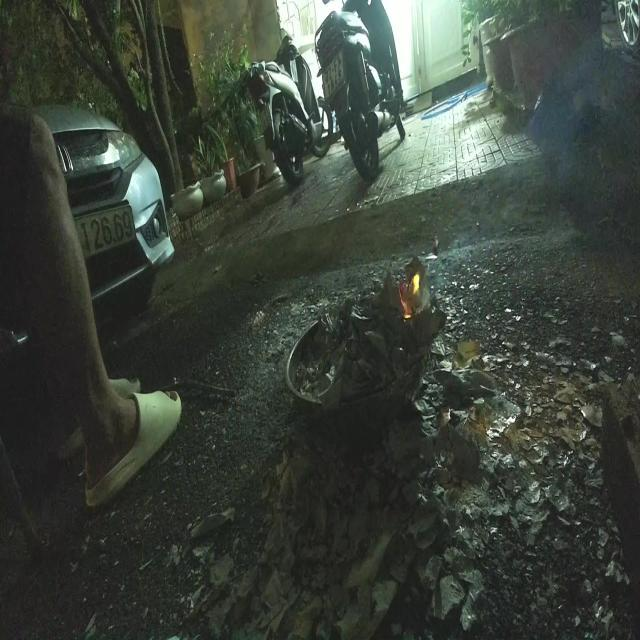Fire: (398, 272, 421, 324)
